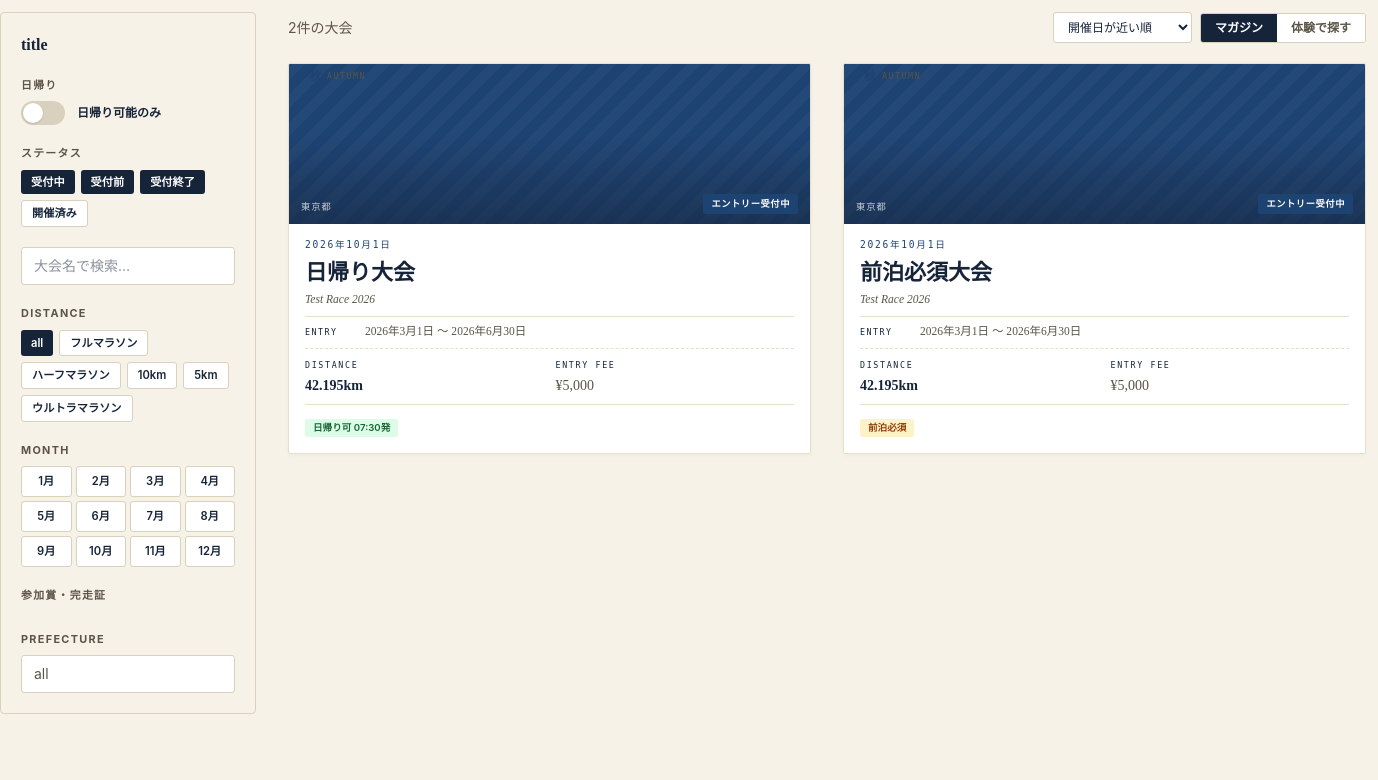
Test case: RaceList - 日帰りフィルタ（travelSettings 連携） › 日帰りトグルをONにすると day_trip でない大会が除外される
Expected: the text "日帰り可能のみ" is shown, [77,105,161,121]
Expected: the heading "日帰り大会" is shown, [305,260,415,285]
Click the switch: (43, 113) [21,101,65,125]
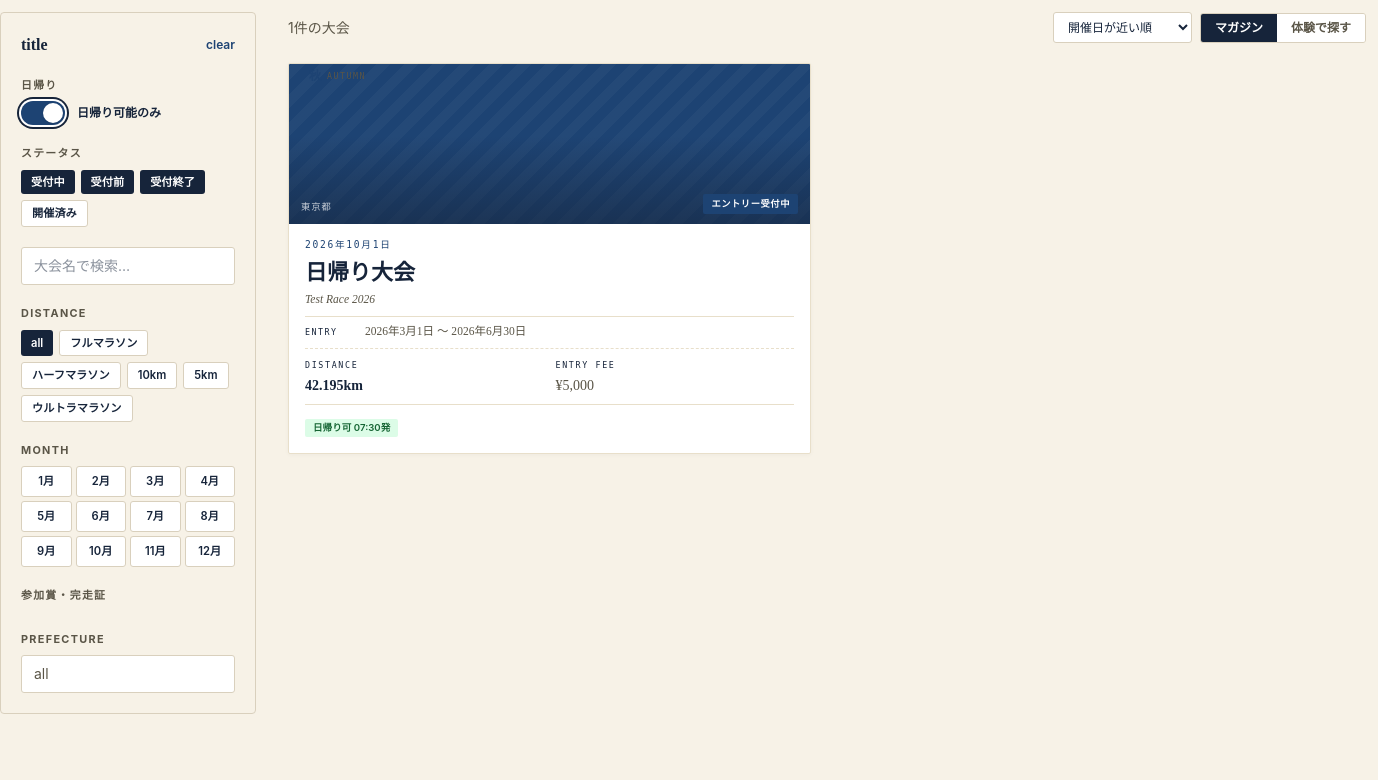
Expected: the heading "日帰り大会" is shown, [305,260,415,285]
Now the link "前泊必須大会" is gone
